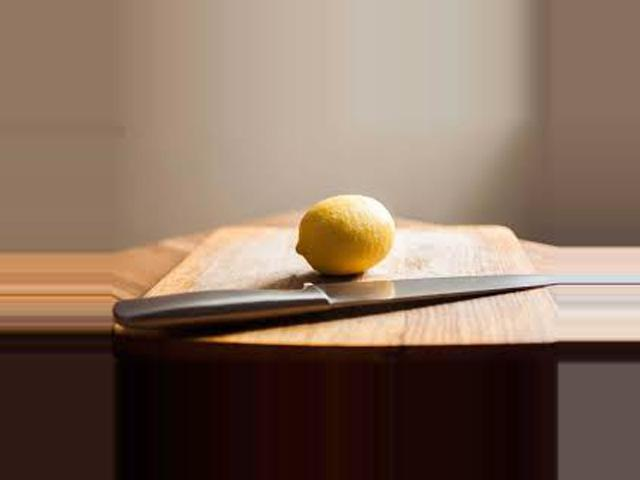lemon: (286, 186, 396, 274)
